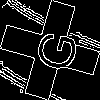G: (25, 25, 80, 75)
